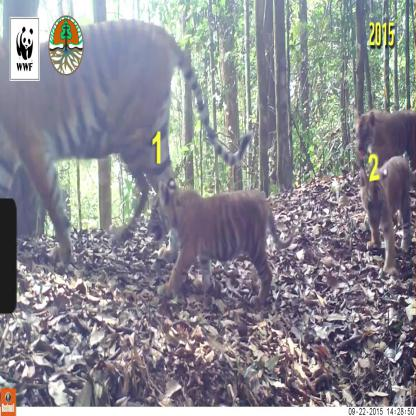Tiger: (7, 29, 213, 240), (134, 162, 297, 327), (334, 156, 416, 258), (346, 86, 416, 162)
